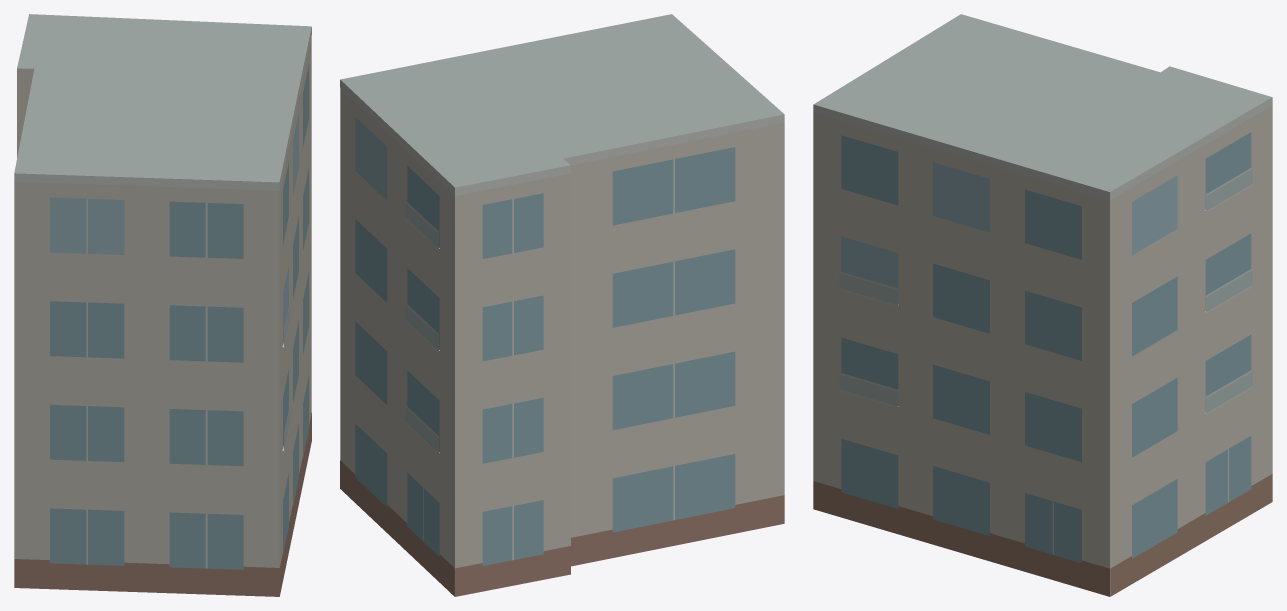
File: survey-upis-32872036.glb
3 views of the same model, side by side, from view 1: azimuth 30°, elevation 25°; view 2: azimuth 150°, elevation 25°; view 3: azimuth 270°, elevation 25° (orthographic). The views are drawn at different scales.
Visible parts, largest first — view 1: survey-upis-32872036.tmp; view 2: survey-upis-32872036.tmp; view 3: survey-upis-32872036.tmp.
Boxes of the visible parts, x1,y1,x2,y2 form: survey-upis-32872036.tmp: (14,14,311,596); survey-upis-32872036.tmp: (340,14,784,596); survey-upis-32872036.tmp: (813,14,1272,596).
Size of the model in its own units: 11.43 by 12.1 by 12.45.
